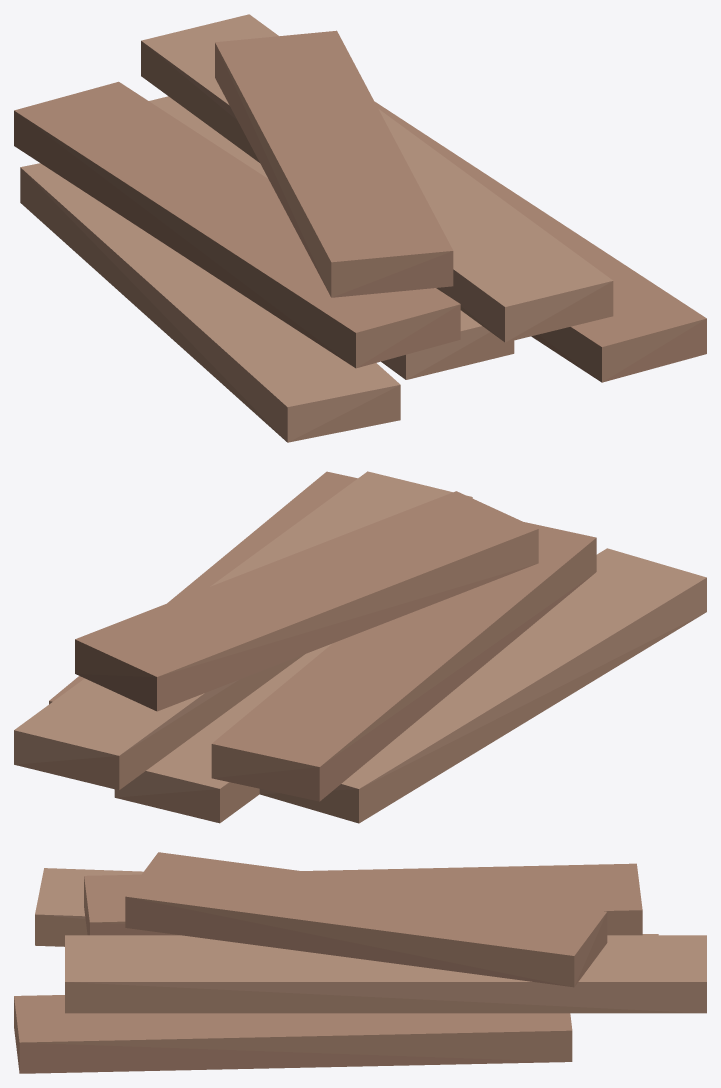
Rendered from ksv_resource-planks.fbx.
3 views of the same model, one above another, from view 1: azimuth 30°, elevation 25°; view 2: azimuth 150°, elevation 25°; view 3: azimuth 270°, elevation 25° (orthographic). The views are drawn at different scales.
Visible parts, largest first — view 1: resource-planks; view 2: resource-planks; view 3: resource-planks.
Part boxes in pixels (x1=…): resource-planks: x1=14, y1=14, x2=706, y2=442; resource-planks: x1=14, y1=471, x2=706, y2=823; resource-planks: x1=14, y1=852, x2=706, y2=1073.
Size of the model in its own units: 37.29 by 9.36 by 62.6.
